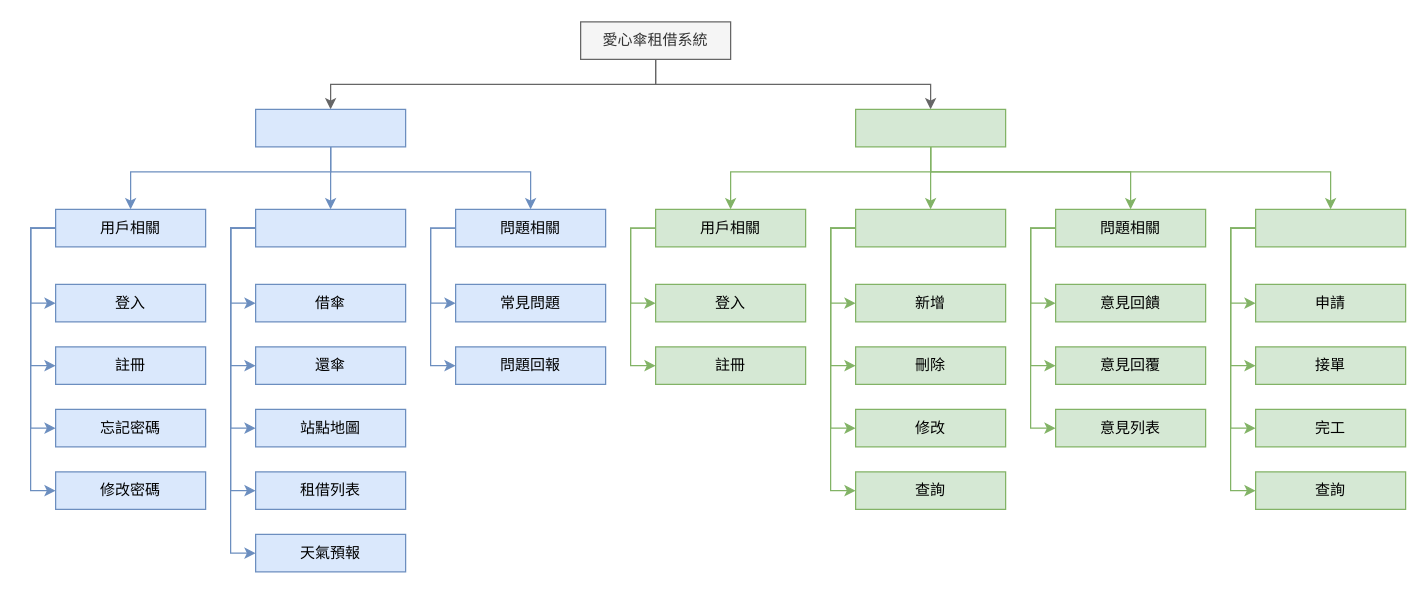
This 1428x594 diagram has some shape labels left out. The centre of each missing label's shape, as x and y in pixels:
使用者: point (330, 127)
報修相關: point (1330, 227)
租借相關: point (330, 227)
站點相關: point (930, 227)
管理者: point (930, 127)
